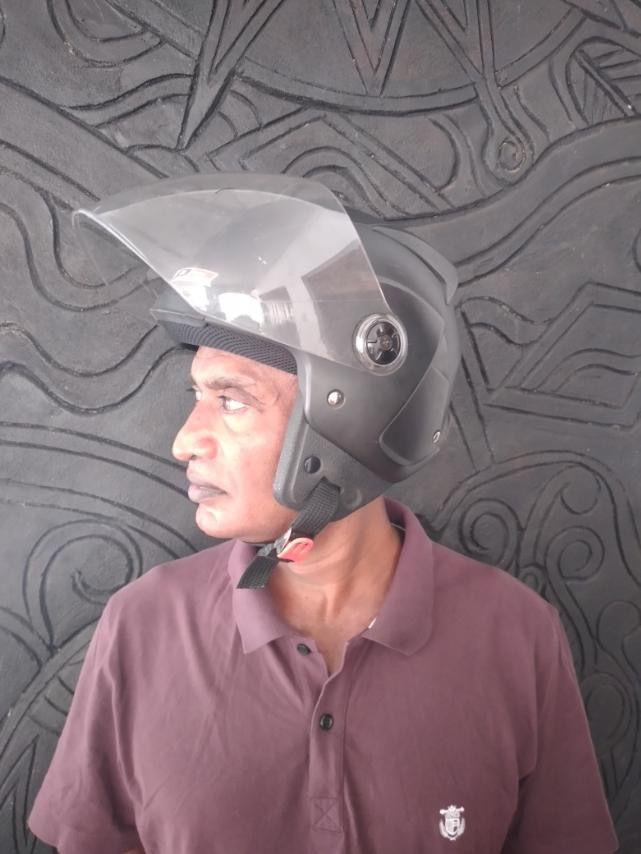helmet: (70, 171, 460, 519)
